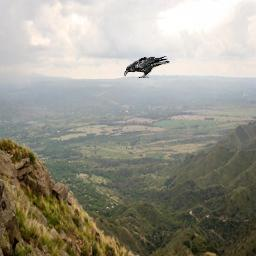Crow: (124, 56, 170, 78)
